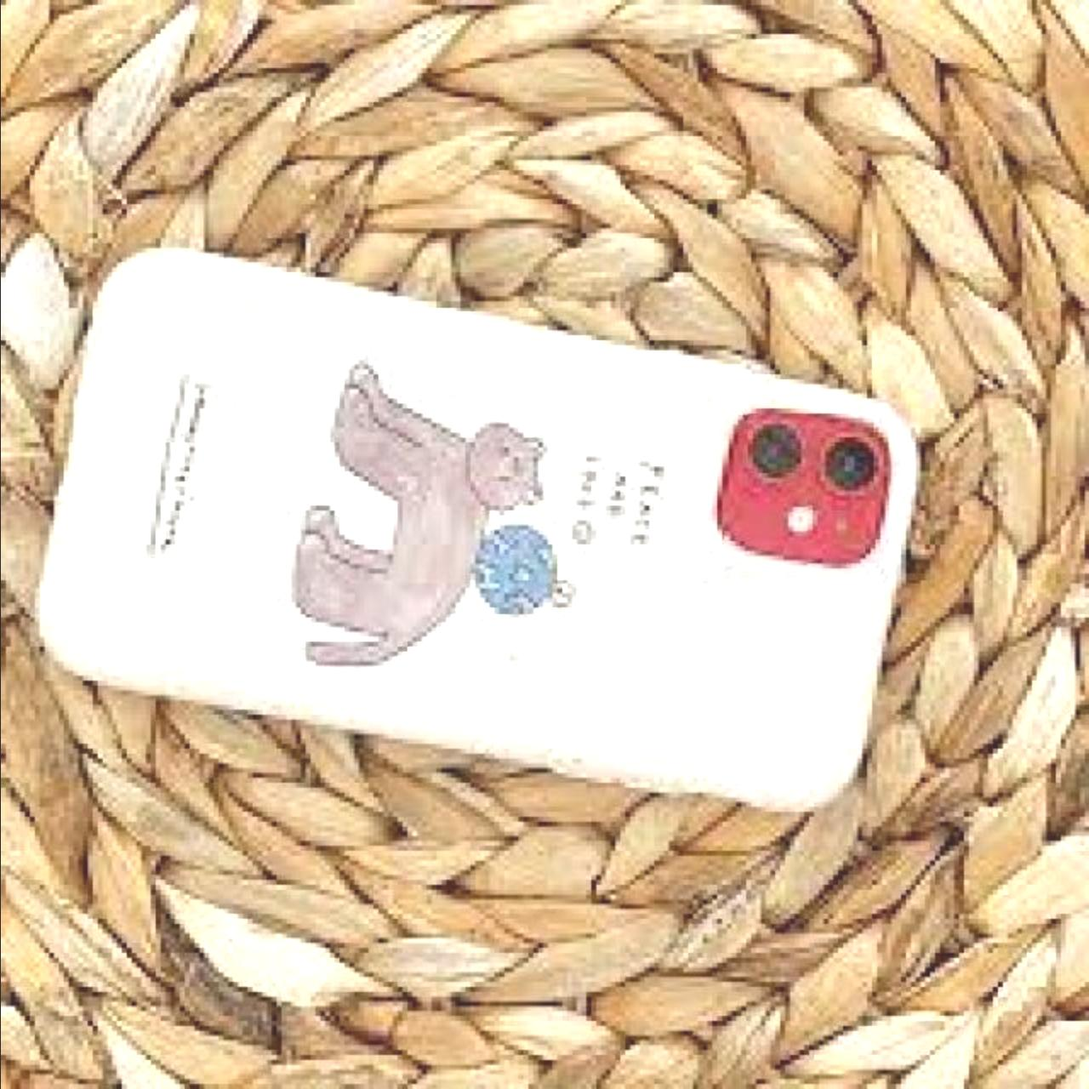phone: (32, 238, 924, 813)
